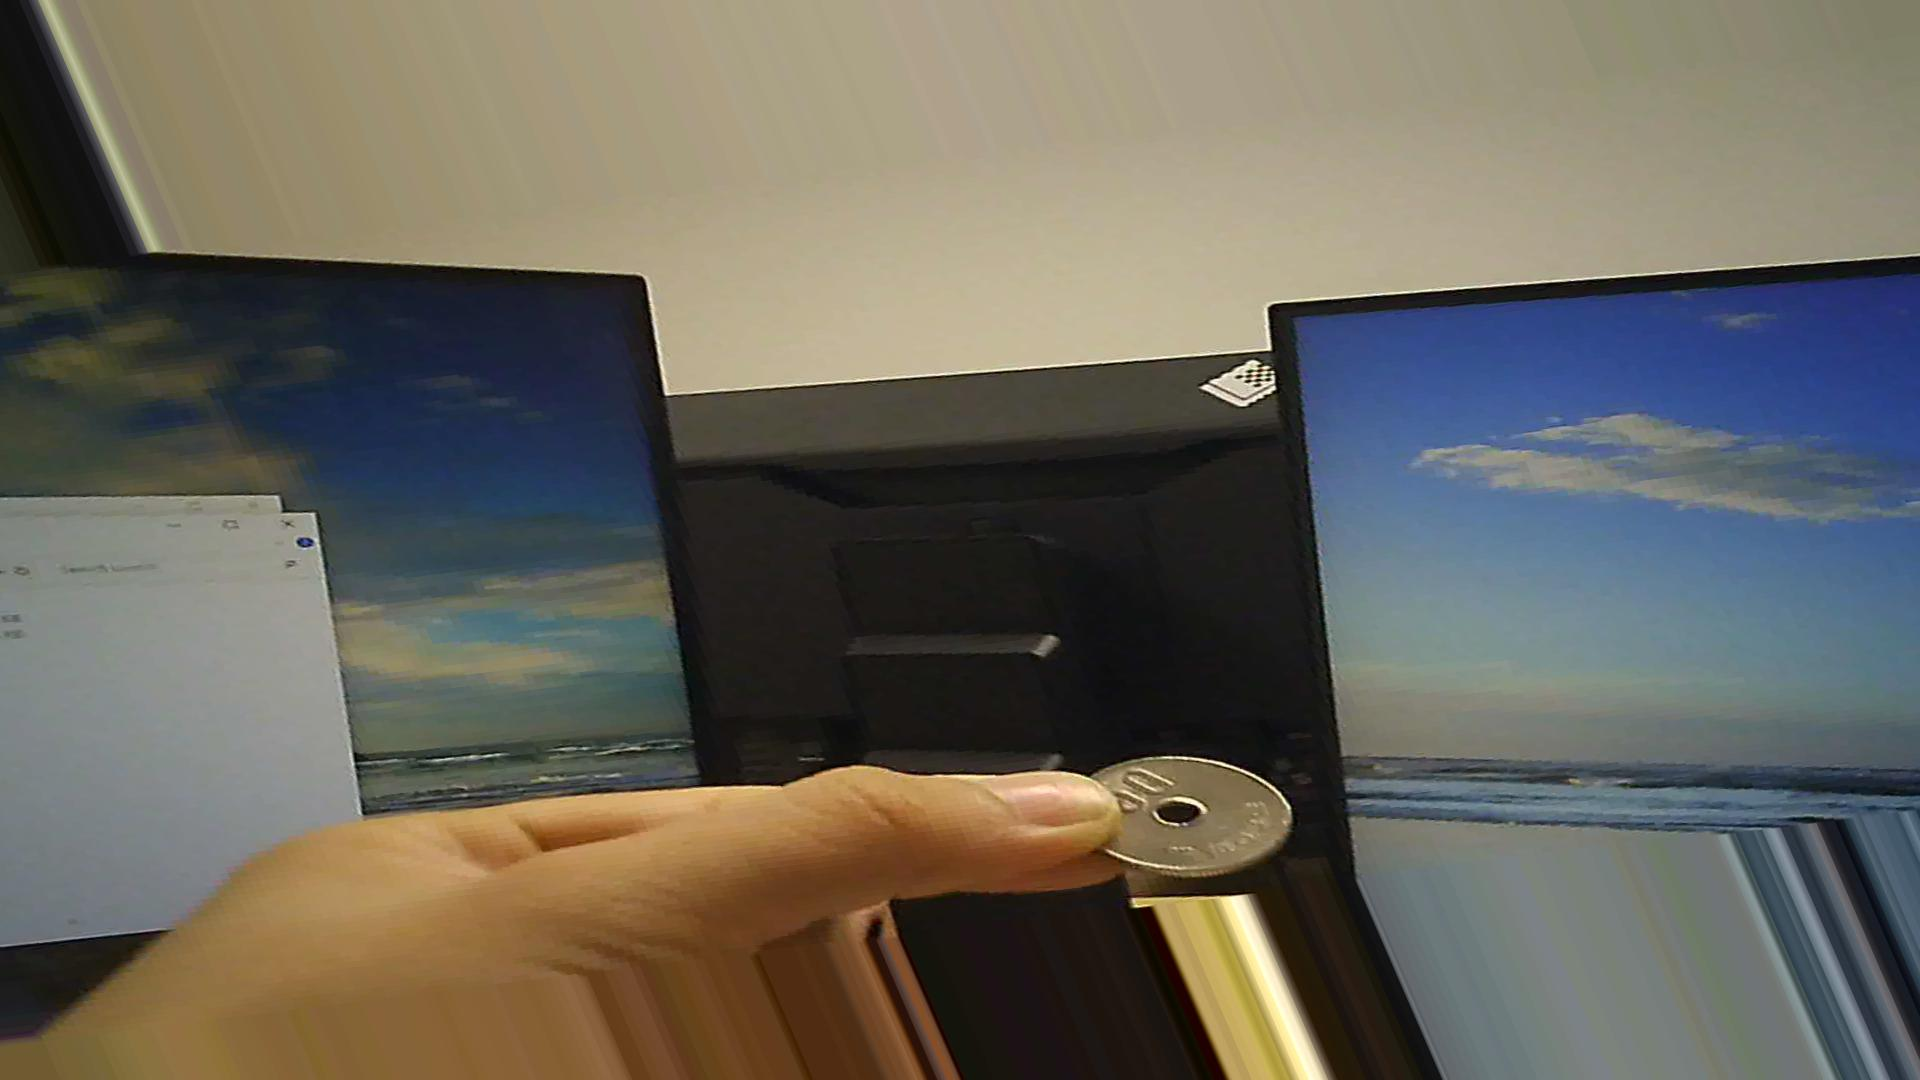50 Yen: (1083, 748, 1288, 876)
